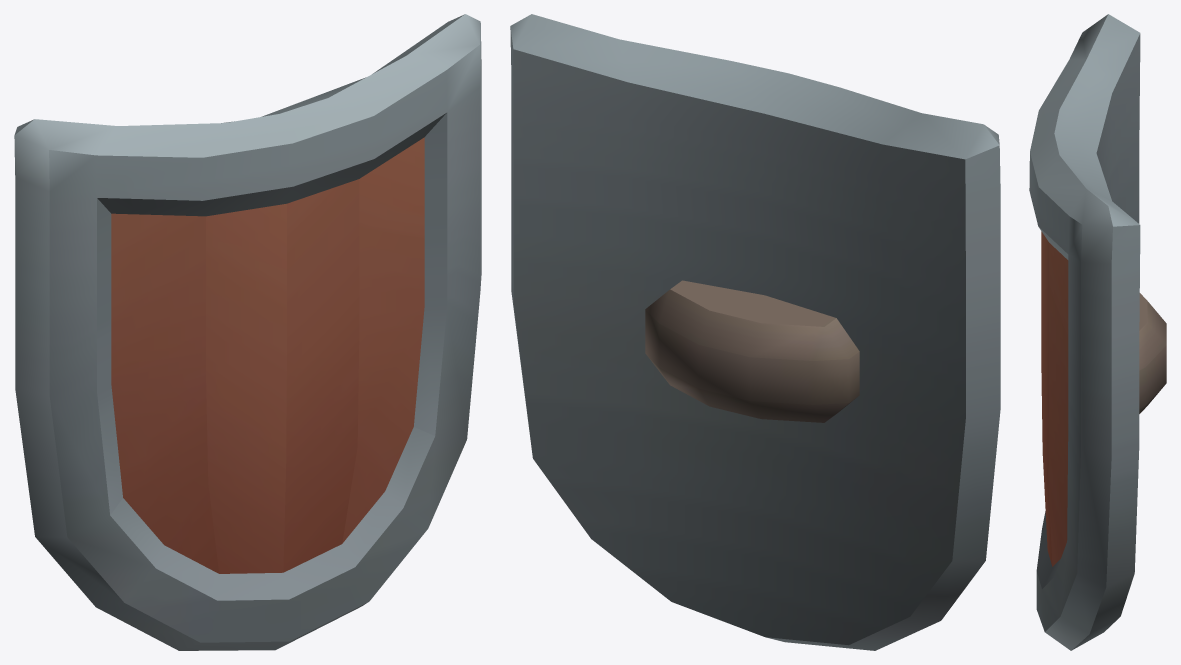
Rendered from shield_badge.glb.
The picture shows the model from 3 angles, left to right: view 1: azimuth 30°, elevation 25°; view 2: azimuth 150°, elevation 25°; view 3: azimuth 270°, elevation 25°; orthographic projection. The views are drawn at different scales.
Parts seen in each view (by area): view 1: shield_badge; view 2: shield_badge; view 3: shield_badge.
Part boxes in pixels (x1,y1,x2,y2): shield_badge: (14, 14, 481, 650); shield_badge: (510, 14, 1000, 650); shield_badge: (1029, 14, 1166, 650).
Bounding box in the file's own units: 0.8827 × 1.02 × 0.2458.
Materials: 1 (1 with a texture image).
